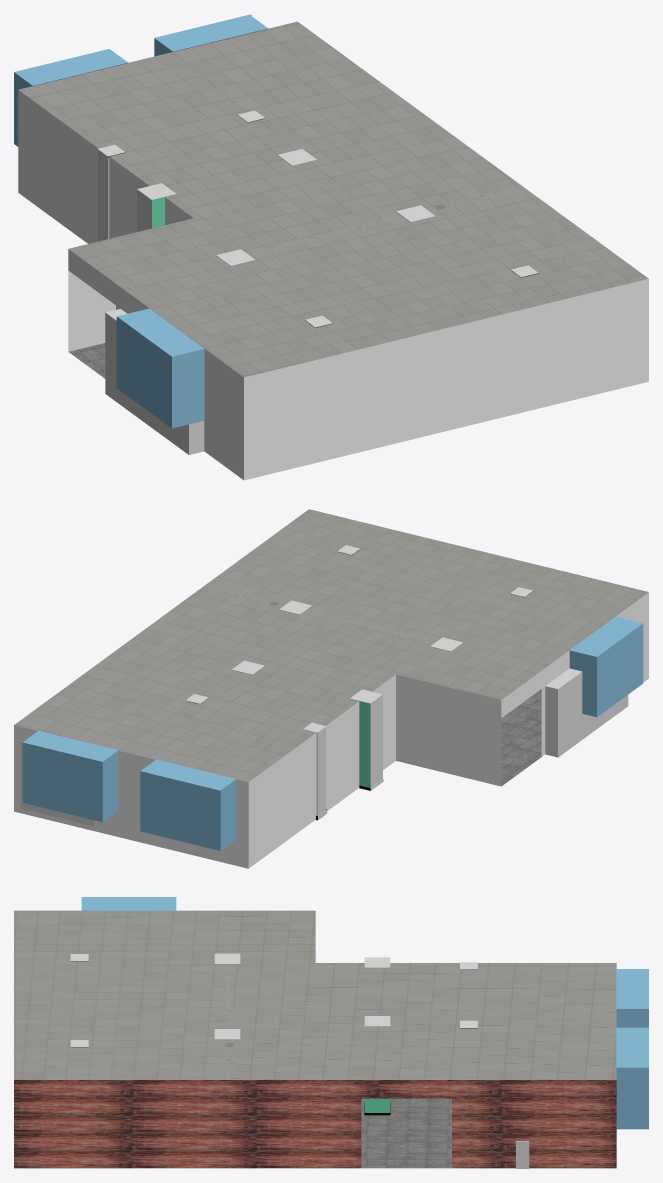
Rendered from aula.fbx.
3 views of the same model, one above another, from view 1: azimuth 30°, elevation 25°; view 2: azimuth 150°, elevation 25°; view 3: azimuth 270°, elevation 25° (orthographic). The views are drawn at different scales.
Parts seen in each view (by area): view 1: Cube, Cube.012, Cube.011, Cube.010, Cube.009, Cube.003; view 2: Cube, Cube.010, Cube.011, Cube.012, Cube.009, Cube.003; view 3: Cube, Cube.010, Cube.011, Cube.012, Cube.004.
Part boxes in pixels (x1,y1,x2,y2): Cube: (18, 14, 648, 480); Cube.012: (116, 308, 204, 428); Cube.011: (14, 49, 127, 146); Cube.010: (154, 14, 268, 56); Cube.009: (137, 183, 176, 231); Cube.003: (97, 144, 125, 241); Cube: (14, 509, 648, 868); Cube.010: (22, 731, 118, 822); Cube.011: (140, 759, 236, 850); Cube.012: (569, 616, 643, 717); Cube.009: (349, 689, 383, 790); Cube.003: (303, 722, 327, 820); Cube: (14, 910, 616, 1168); Cube.010: (616, 1027, 648, 1129); Cube.011: (616, 969, 648, 1027); Cube.012: (81, 897, 176, 910); Cube.004: (364, 1016, 390, 1115).
Bounding box in the file's own units: 2659 × 604 × 3890.
